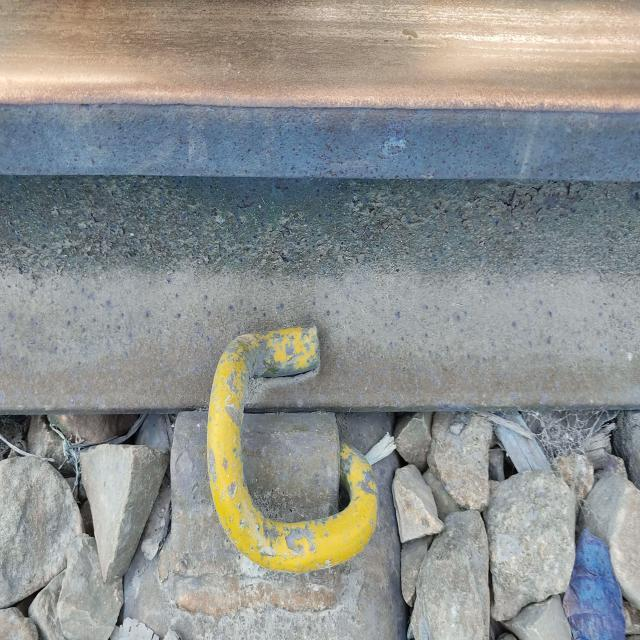Good Fasteners: (207, 327, 377, 572)
